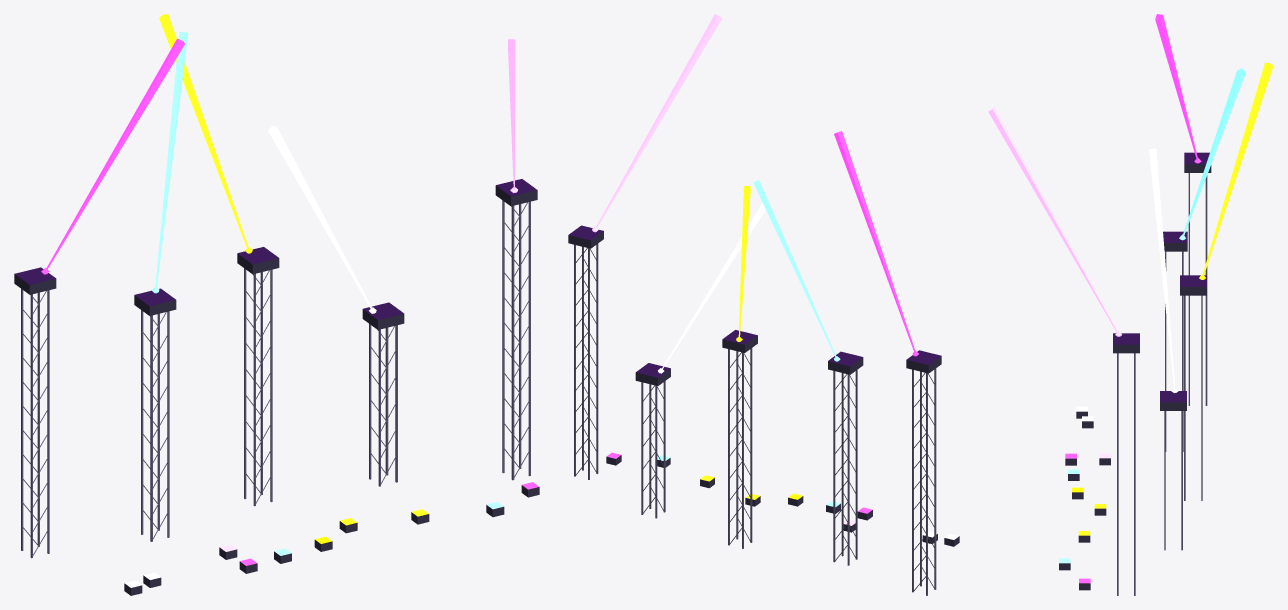
Rendered from W6_Mid_LightTowers.fbx.
3 views of the same model, side by side, from view 1: azimuth 30°, elevation 25°; view 2: azimuth 150°, elevation 25°; view 3: azimuth 270°, elevation 25° (orthographic). The views are drawn at different scales.
Visible parts, largest first — view 1: W6_Mid_LightTowers; view 2: W6_Mid_LightTowers; view 3: W6_Mid_LightTowers.
Boxes of the visible parts, x1,y1,x2,y2 form: W6_Mid_LightTowers: [14, 14, 539, 595]; W6_Mid_LightTowers: [568, 14, 959, 595]; W6_Mid_LightTowers: [988, 14, 1273, 595].
Bounding box in the file's own units: 123 × 128 × 73.79.
